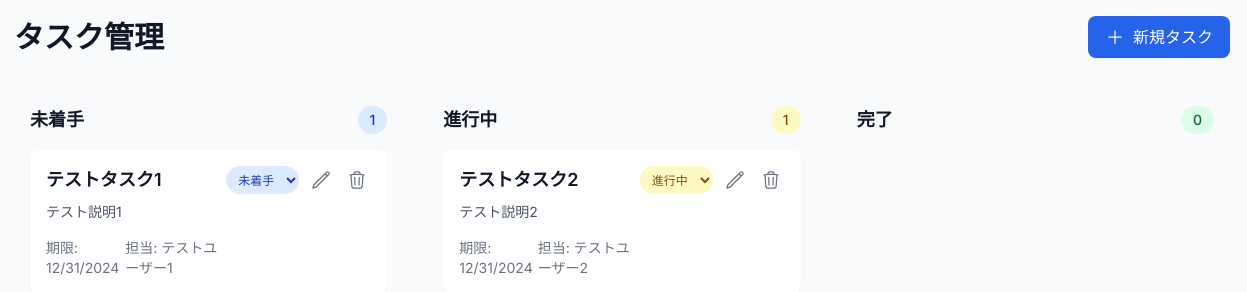
Test: Home › タスクの削除が成功する
Check: the heading "テストタスク1" is shown, box 46,169 -> 162,190
Click the button with test id "delete-button-1". click: (357, 180)
box: 343,166 -> 371,194
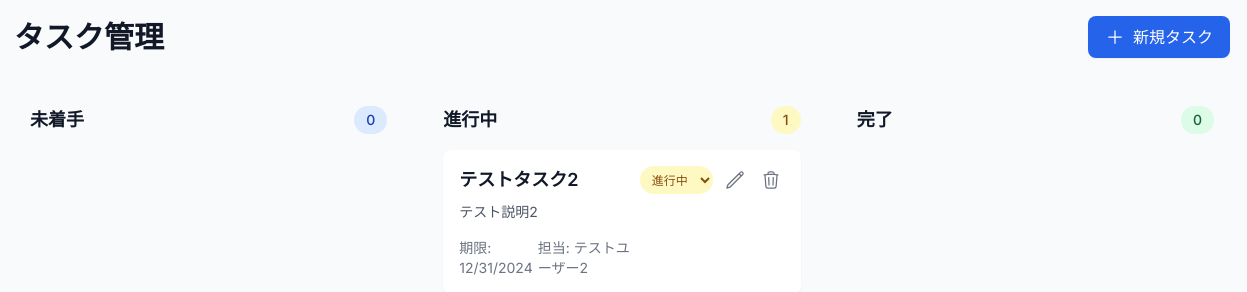
Check: the heading "テストタスク1" is gone
